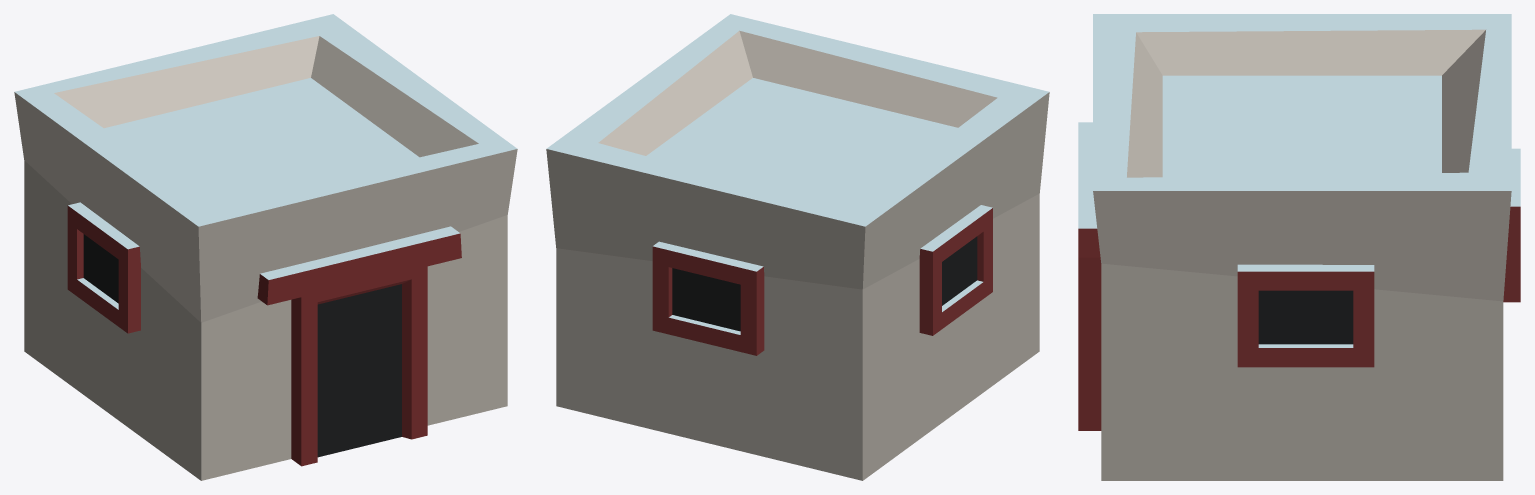
The model's file is SM_Bld_Adventure_House_01_Snow.fbx.
3 views of the same model, side by side, from view 1: azimuth 30°, elevation 25°; view 2: azimuth 150°, elevation 25°; view 3: azimuth 270°, elevation 25° (orthographic). The views are drawn at different scales.
Parts seen in each view (by area): view 1: SM_Bld_Adventure_House_01_Snow; view 2: SM_Bld_Adventure_House_01_Snow; view 3: SM_Bld_Adventure_House_01_Snow.
Boxes of the visible parts, x1=… form: SM_Bld_Adventure_House_01_Snow: x1=14, y1=14, x2=517, y2=480; SM_Bld_Adventure_House_01_Snow: x1=546, y1=14, x2=1049, y2=480; SM_Bld_Adventure_House_01_Snow: x1=1078, y1=14, x2=1520, y2=480.
Bounding box in the file's own units: 67.57 × 50.09 × 68.45.
Materials: 1 (1 with a texture image).
